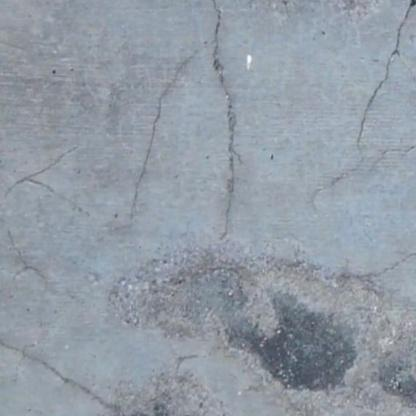Cracks: (116, 0, 253, 253), (316, 0, 416, 205), (0, 316, 133, 416), (316, 228, 416, 293), (4, 133, 85, 197), (0, 220, 37, 277)
